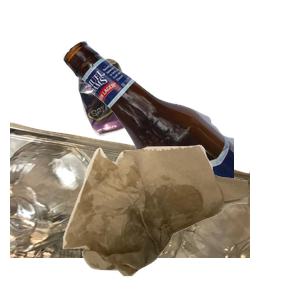glass: (60, 38, 300, 218)
metal: (75, 56, 198, 185)
plastic: (10, 120, 250, 300)
trash: (60, 142, 300, 300)
